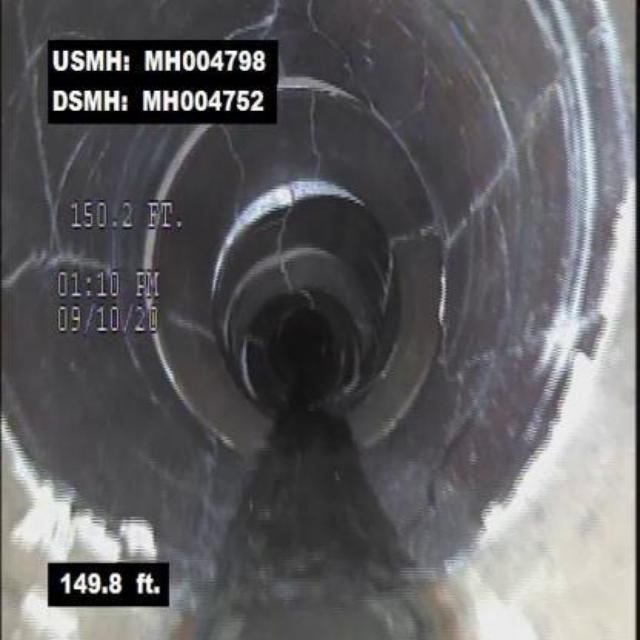Crack: (8, 8, 52, 297), (429, 342, 560, 418), (295, 0, 375, 83), (397, 31, 440, 131)
